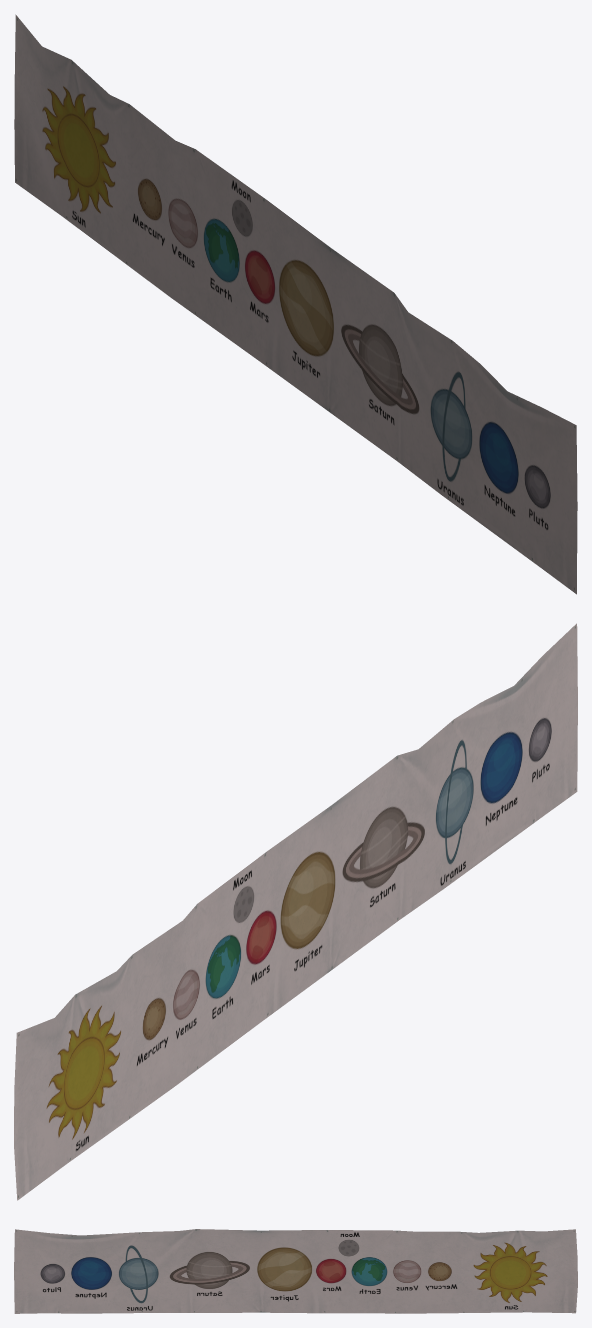
File: SM_School_Banner_02a.fbx
3 views of the same model, one above another, from view 1: azimuth 30°, elevation 25°; view 2: azimuth 150°, elevation 25°; view 3: azimuth 270°, elevation 25° (orthographic). The views are drawn at different scales.
Parts seen in each view (by area): view 1: SM_School_Banner_02a_LOD0; view 2: SM_School_Banner_02a_LOD0; view 3: SM_School_Banner_02a_LOD0.
Boxes of the visible parts, <box> form: SM_School_Banner_02a_LOD0: <box>14,14,577,594</box>; SM_School_Banner_02a_LOD0: <box>14,623,577,1200</box>; SM_School_Banner_02a_LOD0: <box>14,1229,577,1313</box>.
Bounding box in the file's own units: 4.1 × 602 × 99.69.
1 material, 1 textured.
